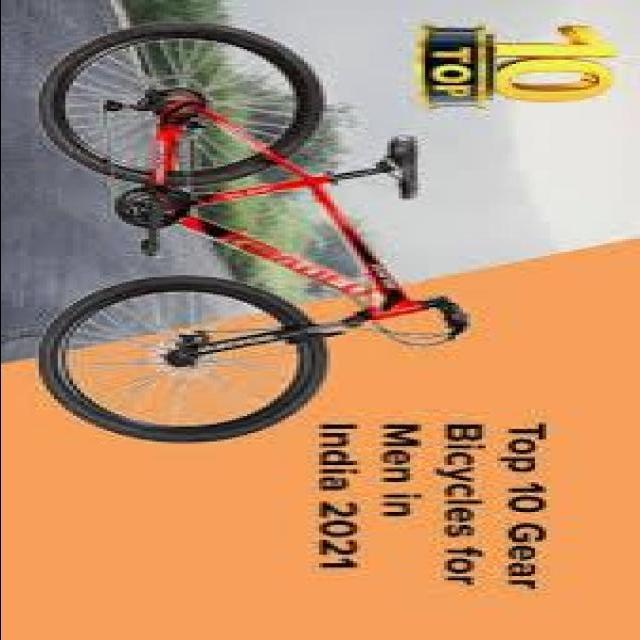bicycle: (34, 31, 474, 451)
